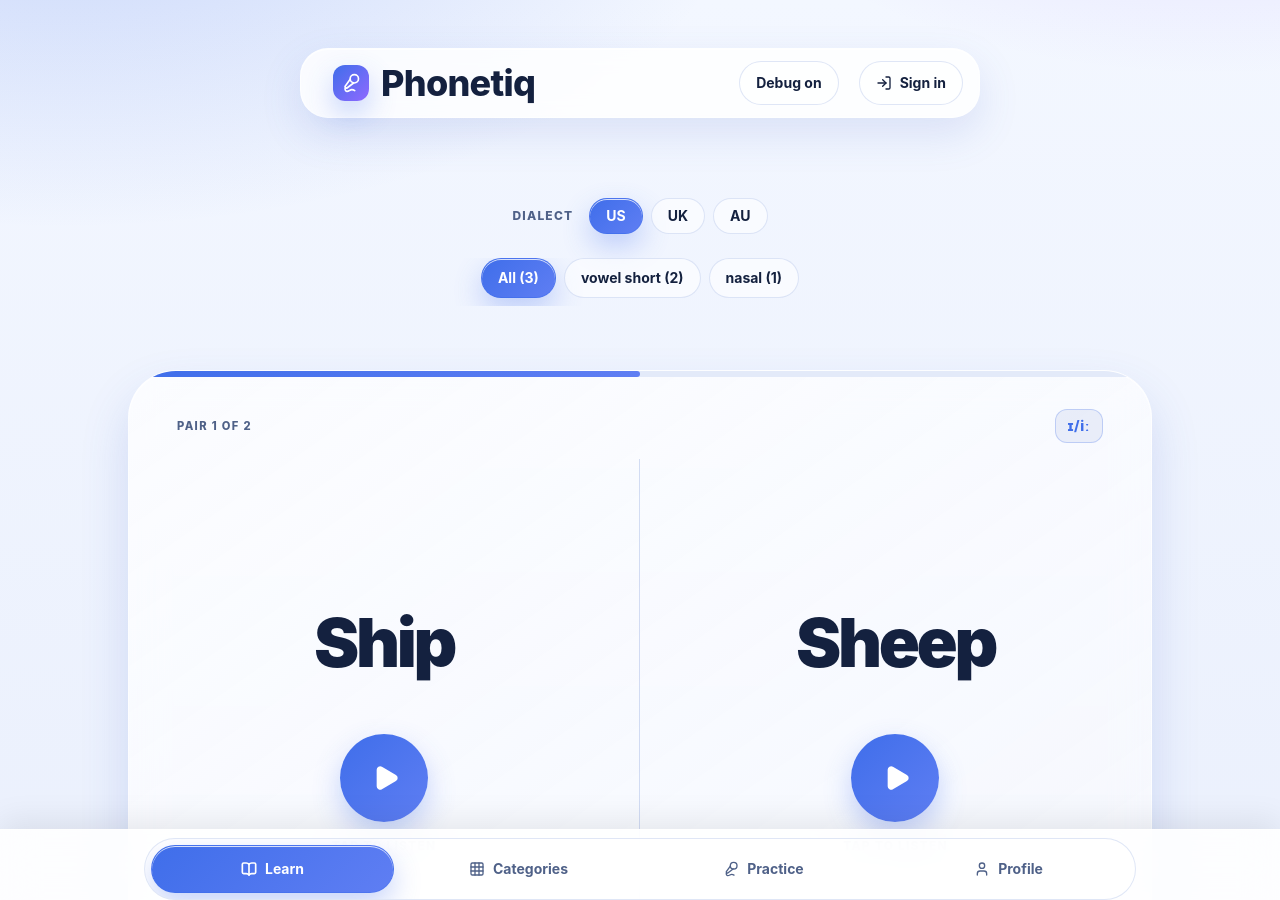
App › renders a single responsive mode tab bar across breakpoints
Expected: the text "Pair 1 of 2" is shown, 177,418 -> 252,434
Expected: the element with test id "mode-toggle" shows "Learn", 151,845 -> 394,893
Click the button with test id "dev-debug-toggle" at (789,83), box 739,61 -> 839,105
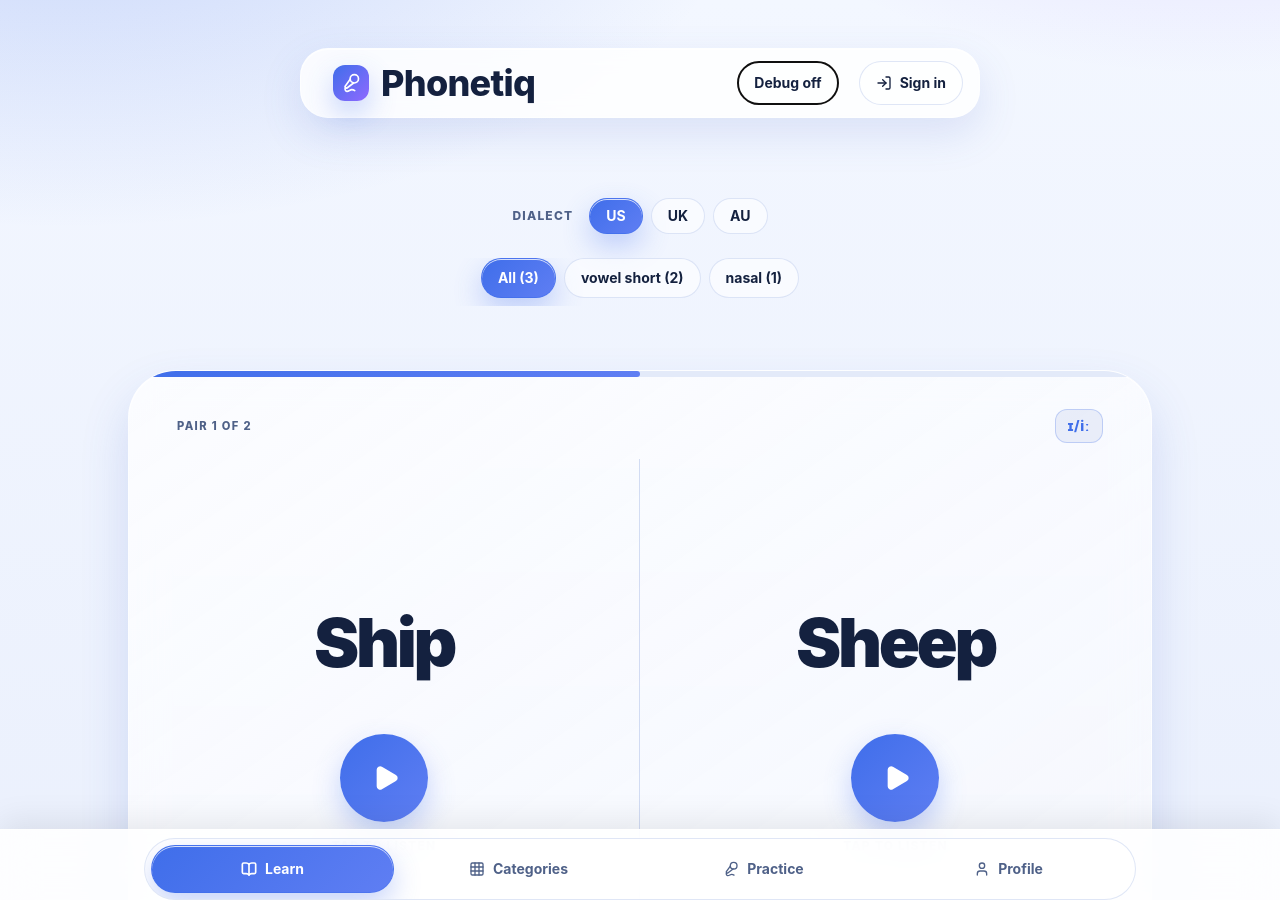
Result: the button with test id "dev-debug-toggle" reads "Debug off" at 737,61 -> 839,105
